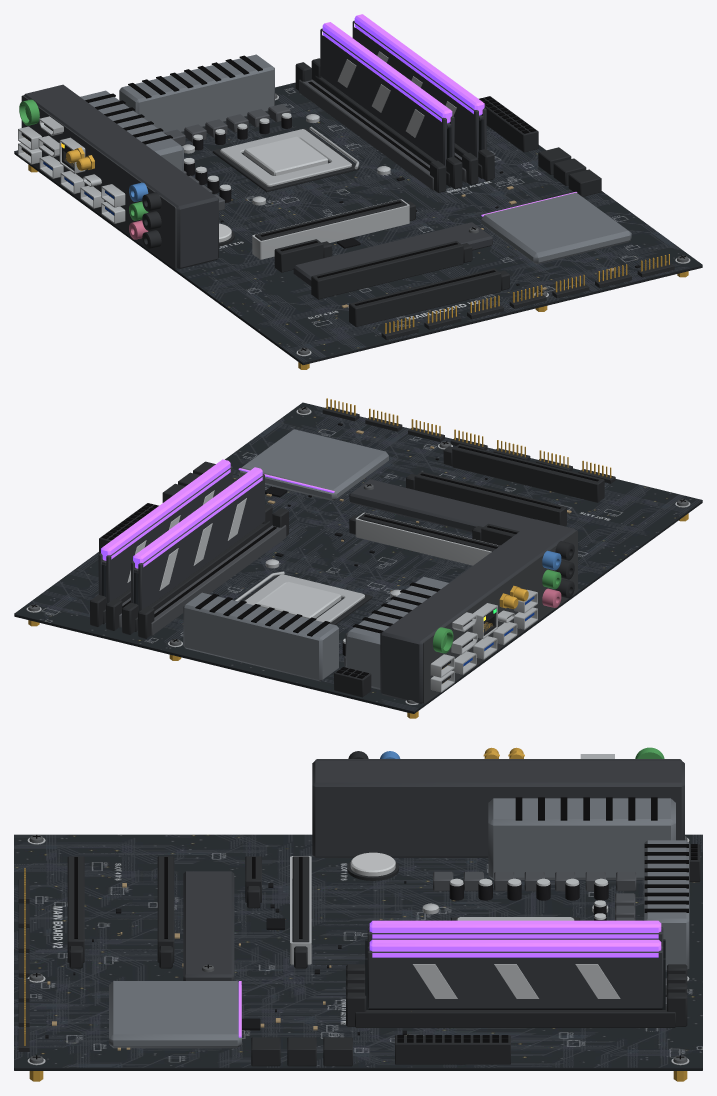
The model's file is motherboard.glb.
3 renders of one model, top to bottom at view 1: azimuth 30°, elevation 25°; view 2: azimuth 150°, elevation 25°; view 3: azimuth 270°, elevation 25°, orthographic. The views are drawn at different scales.
Visible parts, largest first — view 1: Motherboard; view 2: Motherboard; view 3: Motherboard.
Part boxes in pixels (x1,y1,x2,y2): Motherboard: [14, 14, 702, 369]; Motherboard: [14, 398, 702, 718]; Motherboard: [14, 747, 702, 1081].
Size of the model in its own units: 0.2584 by 0.0495 by 0.305.
Materials: 25 (1 with a texture image).
